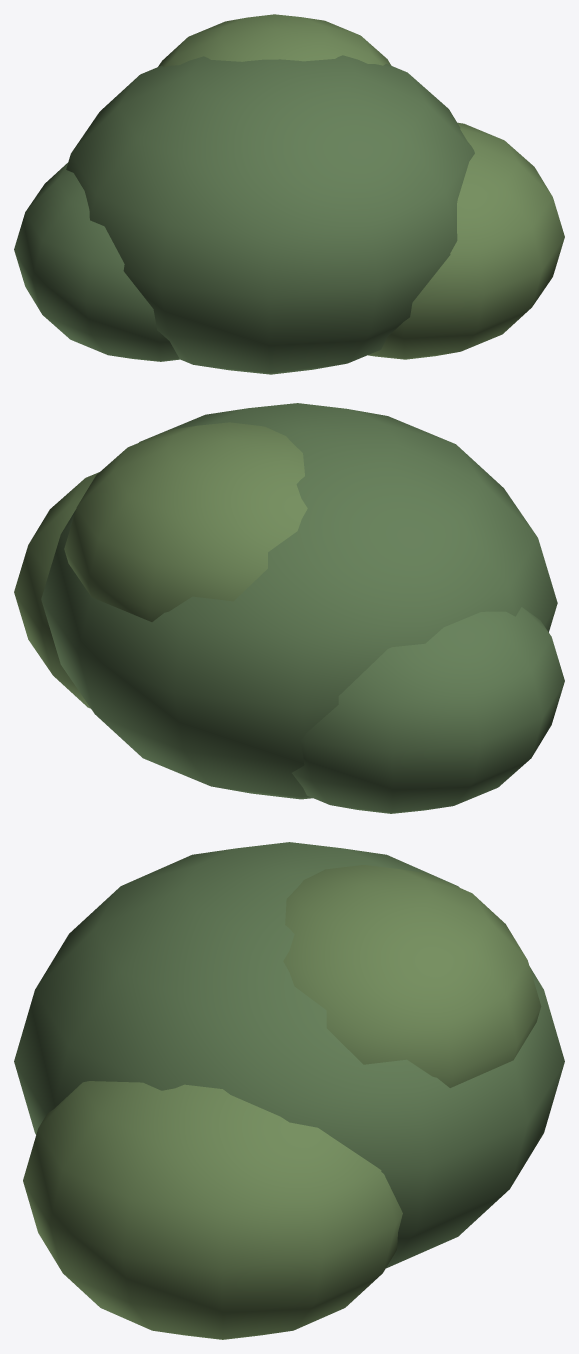
Rendered from bush.glb.
The picture shows the model from 3 angles, top to bottom: view 1: azimuth 30°, elevation 25°; view 2: azimuth 150°, elevation 25°; view 3: azimuth 270°, elevation 25°; orthographic projection. The views are drawn at different scales.
Parts seen in each view (by area): view 1: foliage, foliageB; view 2: foliage, foliageB; view 3: foliageB, foliage.
Part boxes in pixels (x1,y1,x2,y2): foliage: (14,55,474,374); foliageB: (158,14,564,359); foliage: (41,403,564,813); foliageB: (14,422,307,708); foliageB: (23,865,541,1339); foliage: (14,842,564,1268).
Size of the model in its own units: 1.91 by 1.14 by 1.49.
